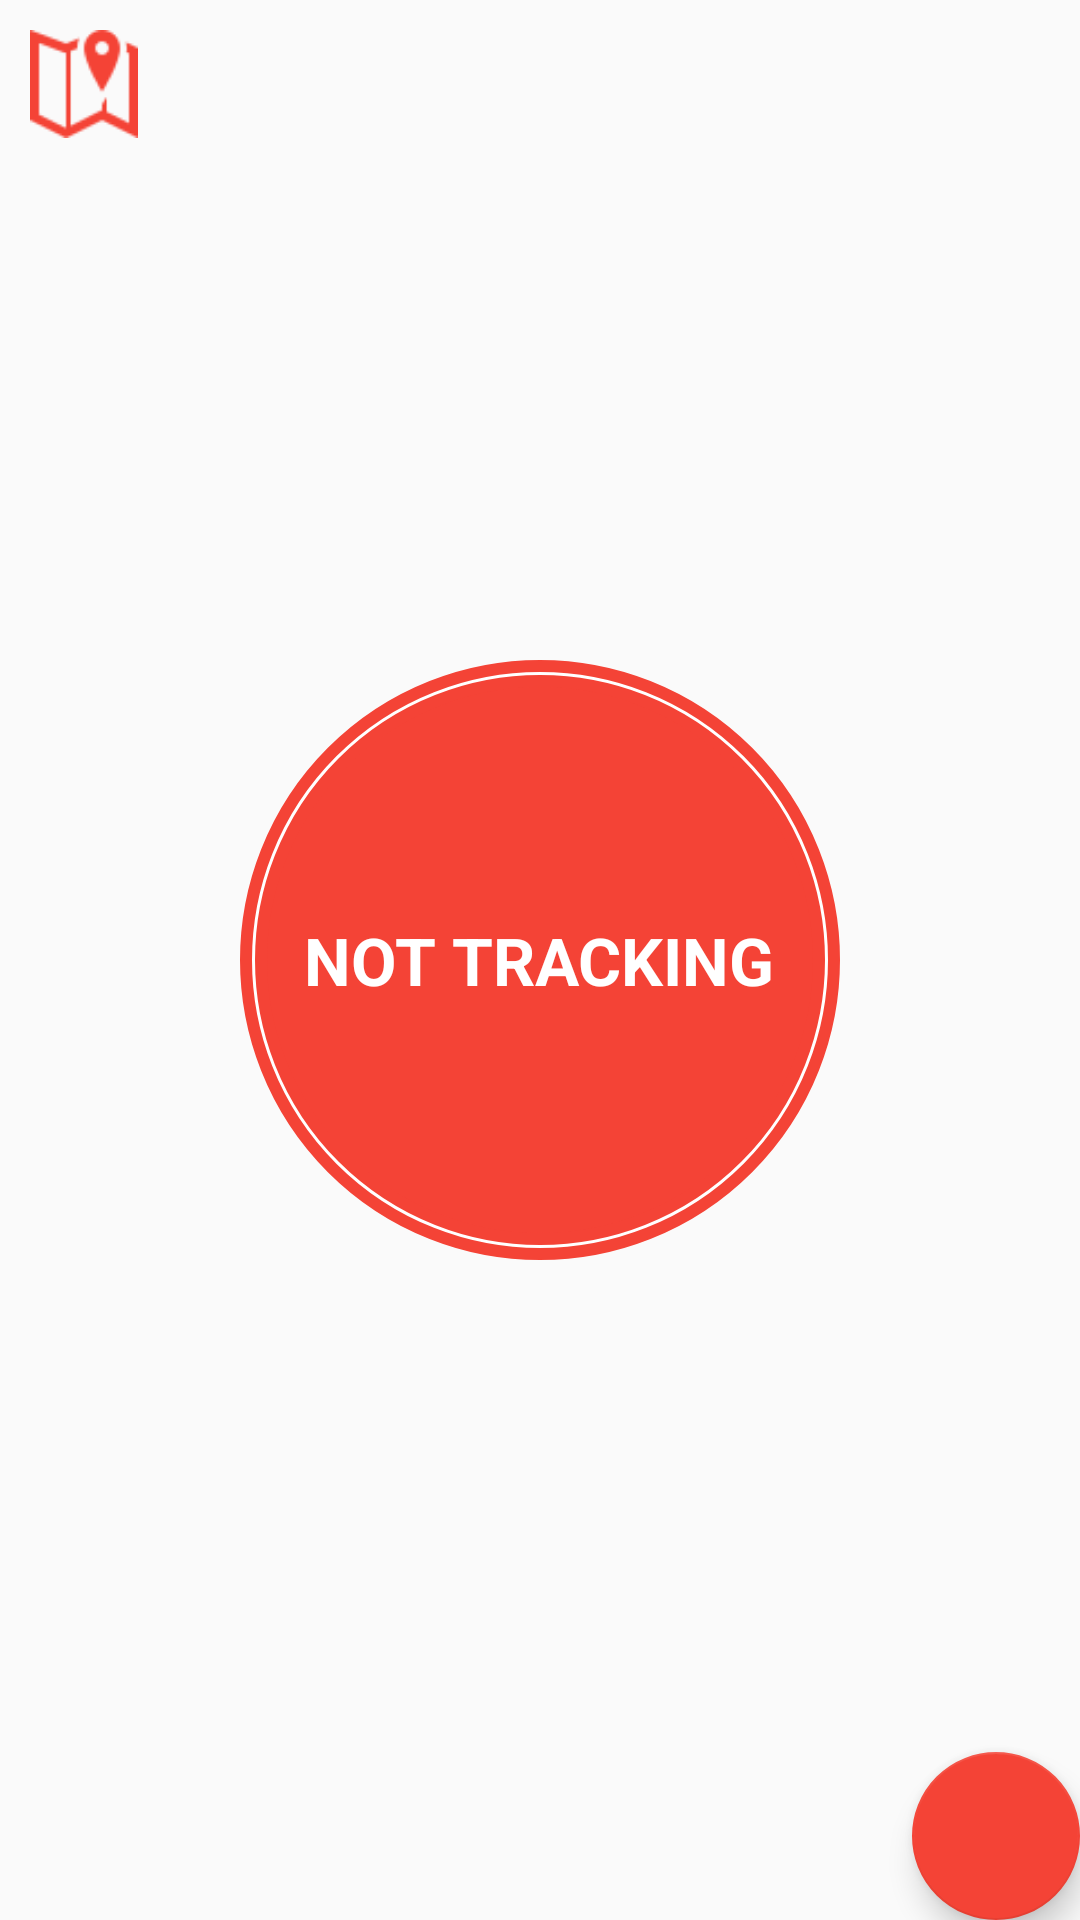

Named icons in this screenshot (1080×1920) and their centers, point (x, y):
map marker: point (84, 84)
